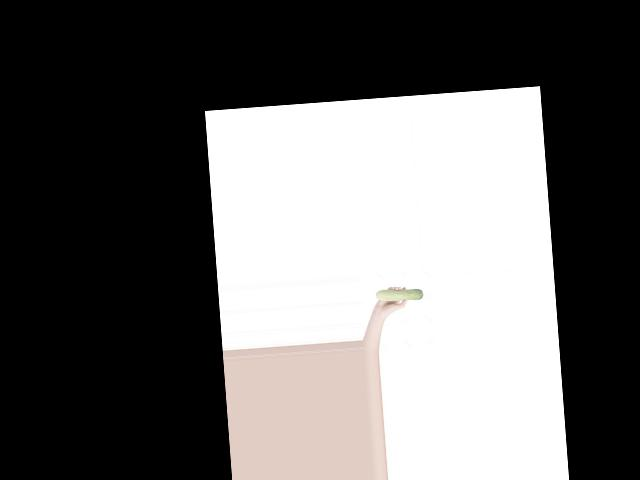cucumber: (374, 287, 423, 304)
